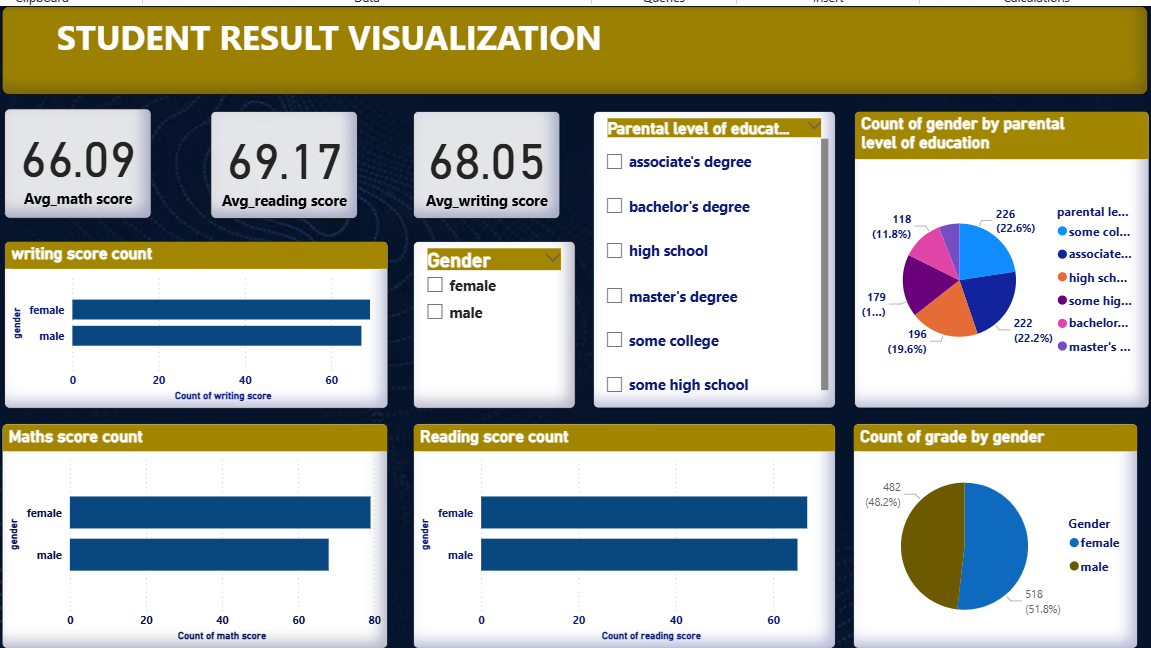

Layout of this report page (visuals, bound fields, positions):
{"tool":"powerbi","page":{"name":"Page 1","canvas":[1280,720],"ordinal":0},"visuals":[{"type":"card","fields":{"Values":["Avg(StudentsPerformance.math score)"]},"box":[12.3,112.5,161.9,120.8],"z":0},{"type":"textbox","box":[9.6,0,1258.3,97.4],"z":1000},{"type":"card","fields":{"Values":["Avg(StudentsPerformance.writing score)"]},"box":[461.1,115.3,161.9,118],"z":2000},{"type":"card","fields":{"Values":["Avg(StudentsPerformance.reading score)"]},"box":[238.8,115.3,161.9,118],"z":3000},{"type":"slicer","fields":{"Values":["StudentsPerformance.gender"]},"box":[461.1,258,178.4,183.9],"z":4000},{"type":"clusteredBarChart","title":"Maths score count","fields":{"Y":["Count(StudentsPerformance.math score)"],"Category":["StudentsPerformance.gender"]},"box":[9.6,458.3,424,247],"z":5000},{"type":"clusteredBarChart","title":"Reading score count","fields":{"Category":["StudentsPerformance.gender"],"Y":["Count(StudentsPerformance.reading score)"]},"box":[461.1,458.3,463.8,247],"z":6000},{"type":"clusteredBarChart","title":"writing score count","fields":{"Category":["StudentsPerformance.gender"],"Y":["Count(StudentsPerformance.writing score)"]},"box":[12.3,258,421.3,183.9],"z":7000},{"type":"pieChart","title":"Count of grade by gender","fields":{"Category":["StudentsPerformance.gender"],"Y":["CountNonNull(StudentsPerformance.race/ethnicity)"]},"box":[944.1,458.3,312.9,247],"z":8000},{"type":"slicer","fields":{"Values":["StudentsPerformance.parental level of education"]},"box":[658.7,115.3,266.2,326.6],"z":9000},{"type":"pieChart","fields":{"Category":["StudentsPerformance.parental level of education"],"Y":["CountNonNull(StudentsPerformance.gender)"]},"box":[945.5,115.3,323.8,326.6],"z":10000}]}

Visuals, with their boxes in screenshot pixels (x1, y1, x2, y2):
card - Avg(StudentsPerformance.math score): region(0, 103, 145, 214)
textbox: region(0, 0, 1150, 90)
card - Avg(StudentsPerformance.writing score): region(409, 106, 558, 214)
card - Avg(StudentsPerformance.reading score): region(205, 106, 353, 214)
slicer - StudentsPerformance.gender: region(409, 237, 573, 406)
"Maths score count" clusteredBarChart: region(0, 421, 384, 647)
"Reading score count" clusteredBarChart: region(409, 421, 835, 647)
"writing score count" clusteredBarChart: region(0, 237, 384, 406)
"Count of grade by gender" pieChart: region(853, 421, 1141, 647)
slicer - StudentsPerformance.parental level of education: region(591, 106, 835, 406)
pieChart - StudentsPerformance.parental level of education x CountNonNull(StudentsPerformance.gender): region(854, 106, 1150, 406)
